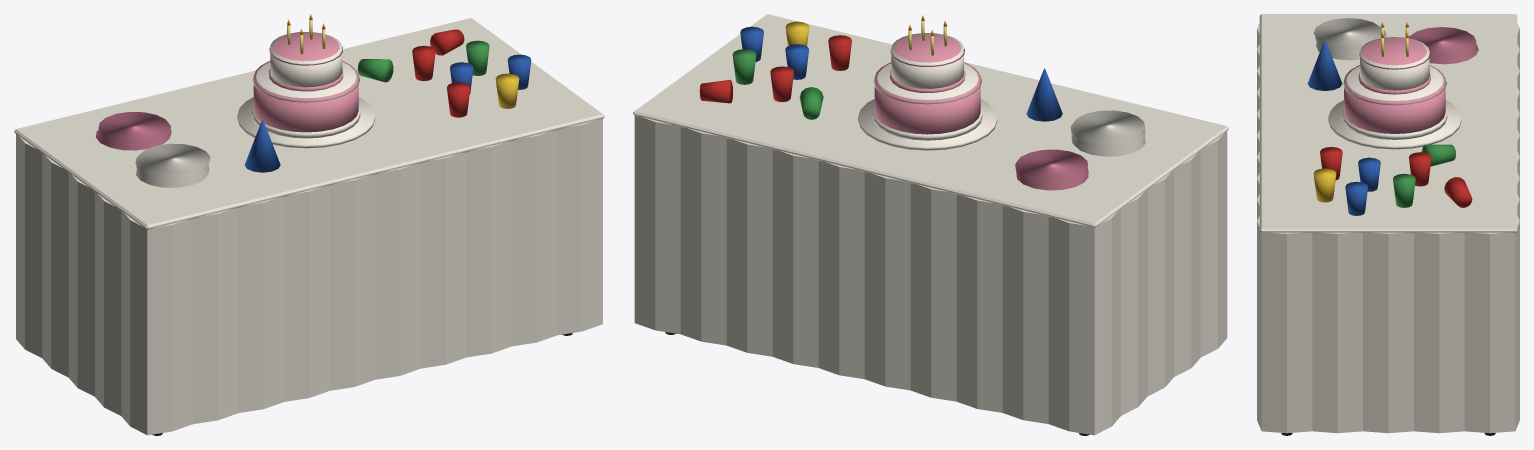
File: MesaDeBolos.fbx
3 renders of one model, left to right at view 1: azimuth 30°, elevation 25°; view 2: azimuth 150°, elevation 25°; view 3: azimuth 270°, elevation 25°, orthographic. The views are drawn at different scales.
Parts seen in each view (by area): view 1: MesaDeBolos; view 2: MesaDeBolos; view 3: MesaDeBolos.
Part boxes in pixels (x1,y1,x2,y2): MesaDeBolos: (14, 14, 604, 435); MesaDeBolos: (633, 14, 1228, 435); MesaDeBolos: (1257, 14, 1519, 435).
Size of the model in its own units: 1.63 by 1.08 by 0.828.
